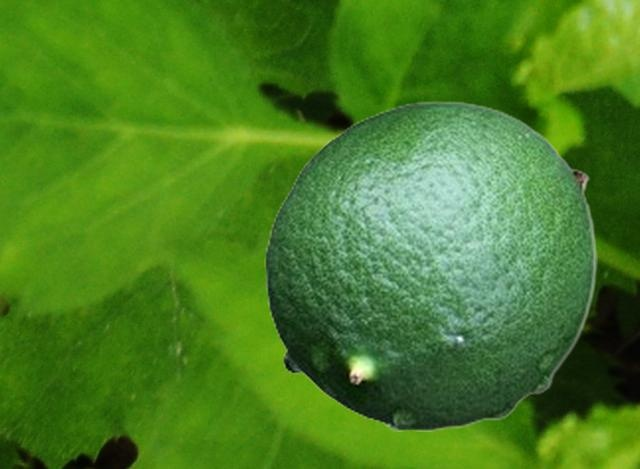calamansi: (264, 100, 596, 430)
